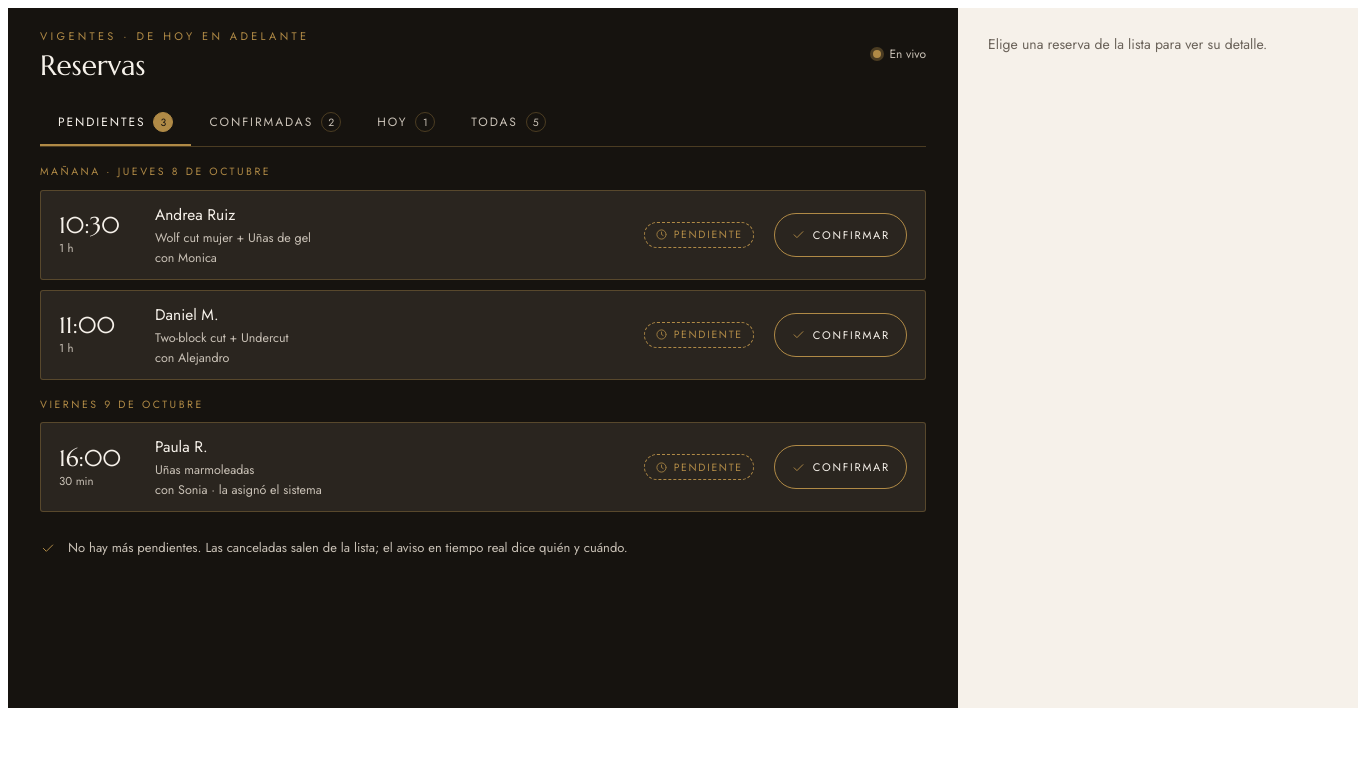
la bandeja · acciones (A2–A3) › si otra vía ya la confirmó, lo dice en la fila y refresca (Foco 3)
Click the 1st button with test id "confirmar-fila".
click(840, 235)  # box x1=774 y1=213 x2=907 y2=257
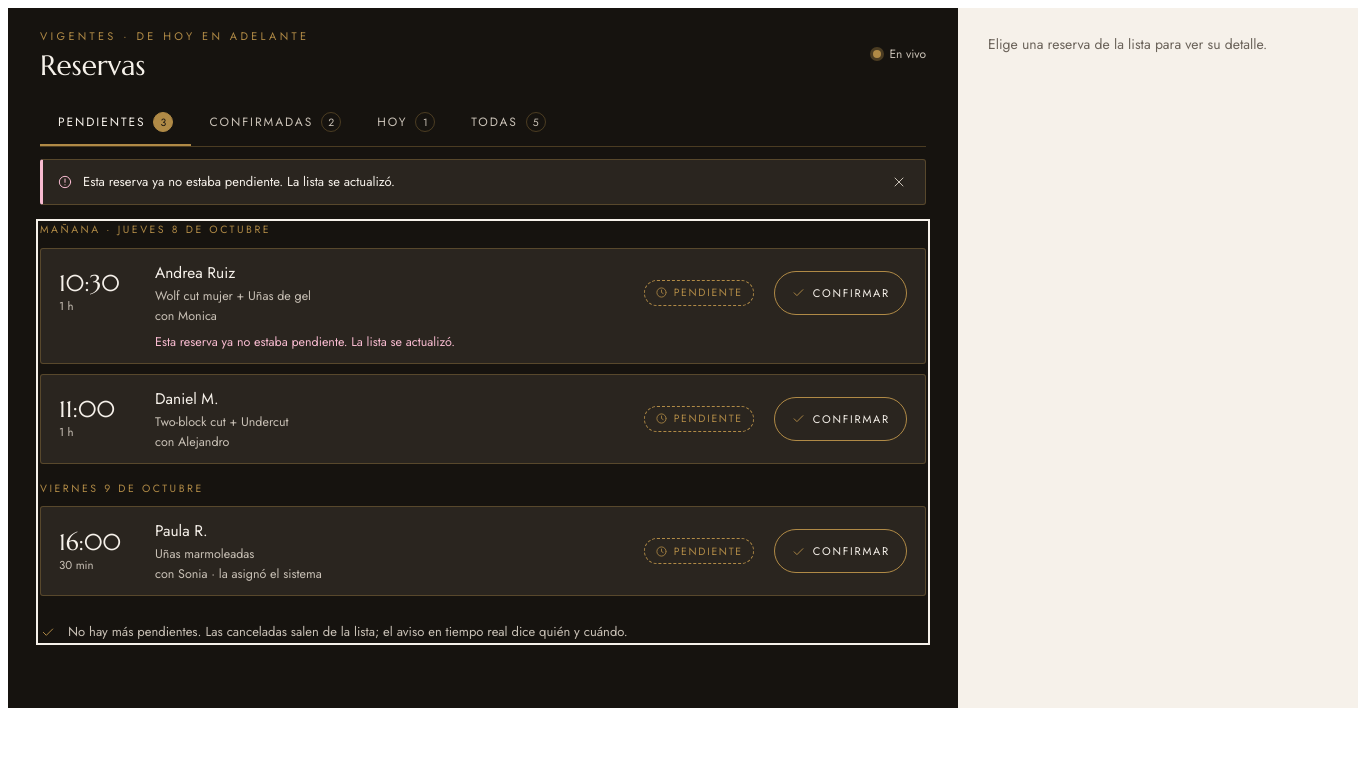
Check: the text with test id "error-fila" reads "Esta reserva ya no estaba pendiente. La lista se actualizó.", box x1=155 y1=333 x2=455 y2=351
